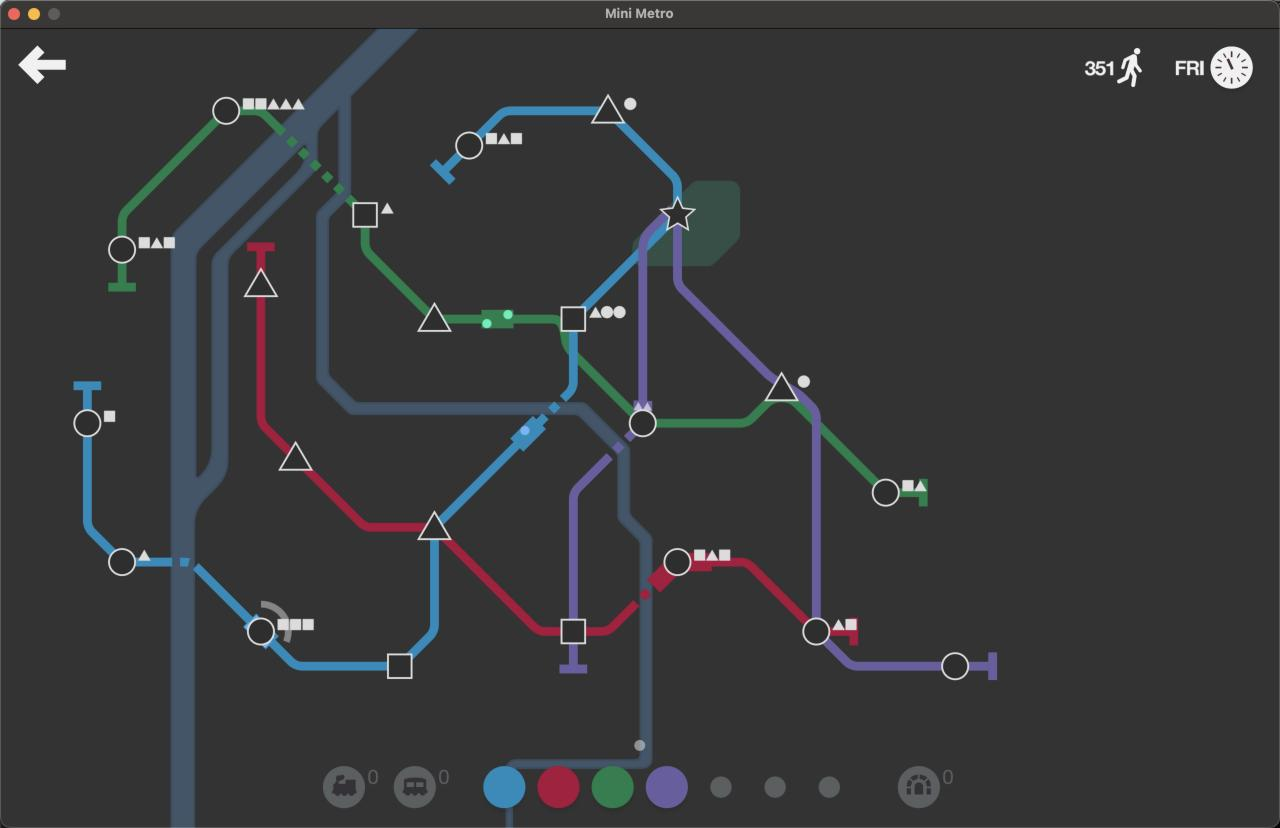CIRCLE: (246, 615, 276, 646), (628, 407, 657, 438), (108, 547, 137, 577), (455, 130, 484, 160), (802, 617, 831, 646), (871, 478, 900, 507), (73, 409, 102, 438), (108, 235, 137, 264), (663, 547, 692, 576), (941, 651, 969, 681), (212, 96, 240, 126)
SQUARE: (351, 201, 379, 229), (560, 617, 587, 645), (560, 305, 587, 333), (386, 652, 413, 679)
STAR: (658, 198, 696, 232)
TRIANGLE: (416, 301, 453, 334), (416, 509, 453, 541), (278, 440, 314, 472), (243, 267, 279, 299), (590, 93, 624, 124), (764, 371, 798, 402), (381, 202, 393, 215)
